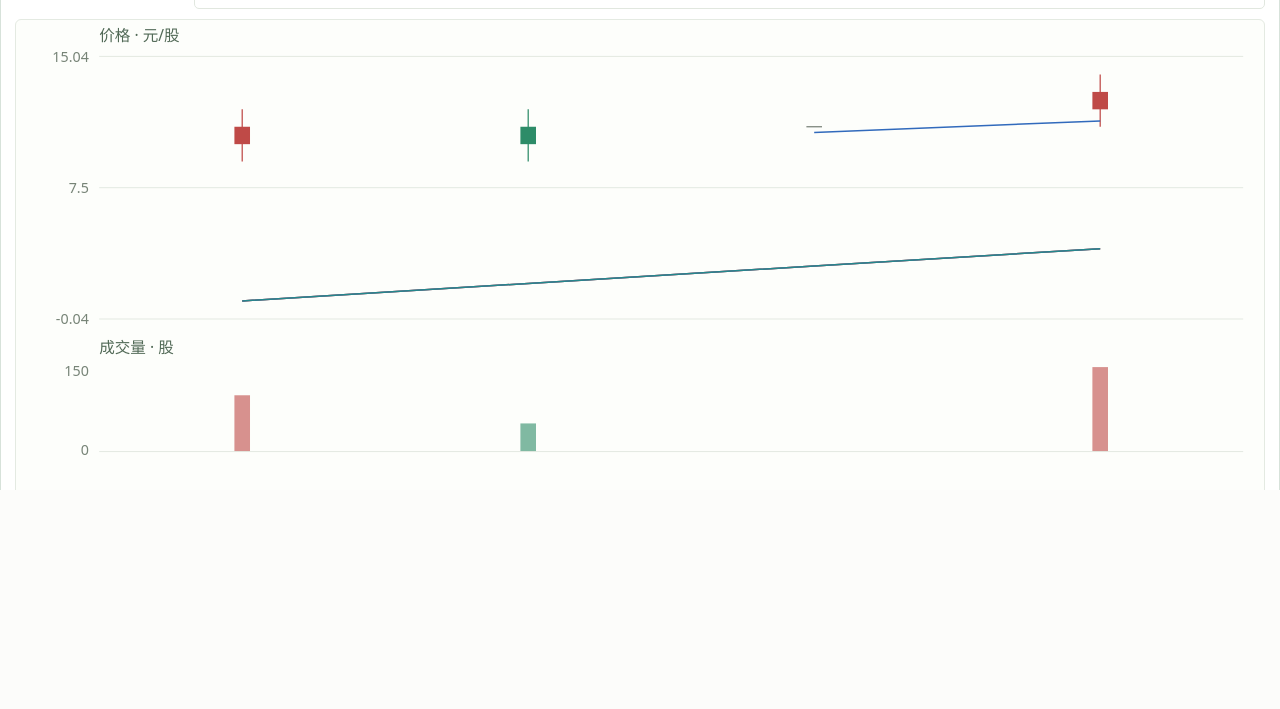
research chart component › uses short BOLL, MACD and volume names while preserving internal selection identities
(page scrolled)
Press End in the element named "互动日线图"
(page scrolled)
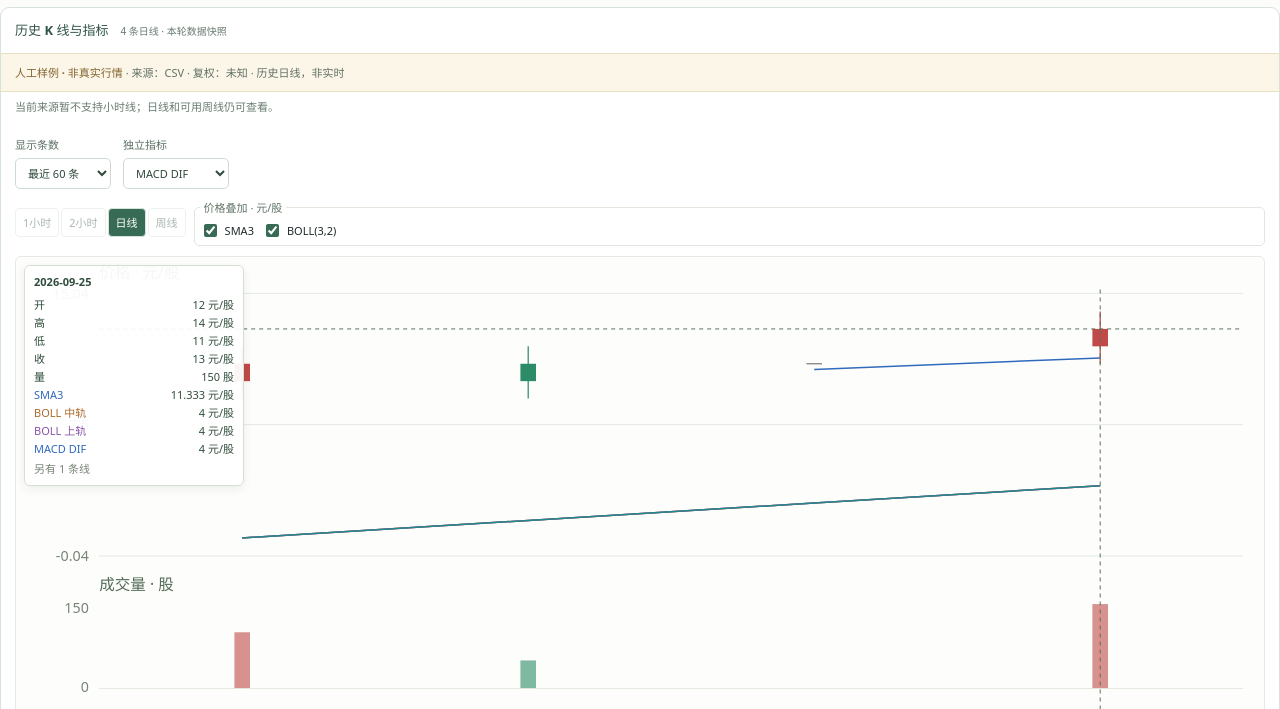
Now the element named "选定K线读数" shows "另有 1 条线", box [24,265,244,486]
Now the element named "选定K线读数" shows "SMA3", box [34,387,63,402]
Now the element named "选定K线读数" shows "BOLL 中轨", box [34,405,86,420]
Click the checkbox labelled "BOLL(3,2)". click: click(272, 231)
box: [266,224,279,237]
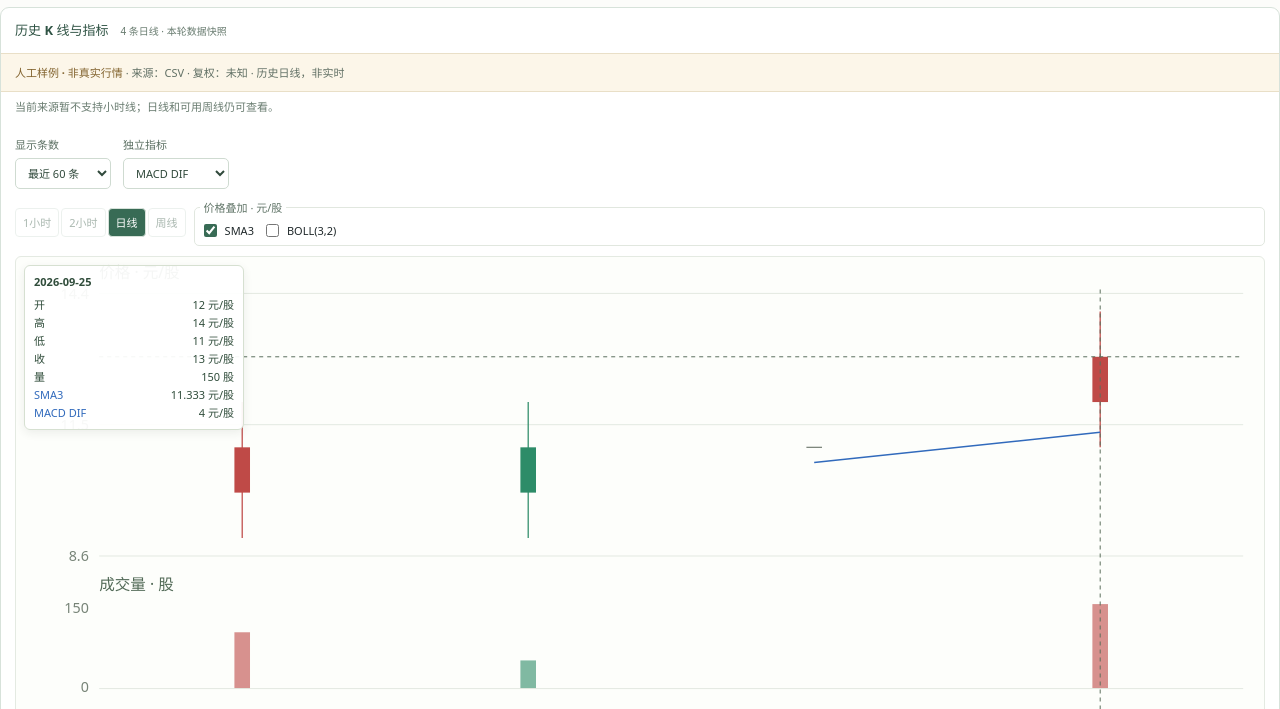
Now the element named "选定K线读数" shows "SMA3", box [34,387,63,402]
Now the element named "选定K线读数" shows "MACD DIF", box [34,405,86,420]
Now the element named "选定K线读数" no longer shows "另有", box [24,265,244,430]
